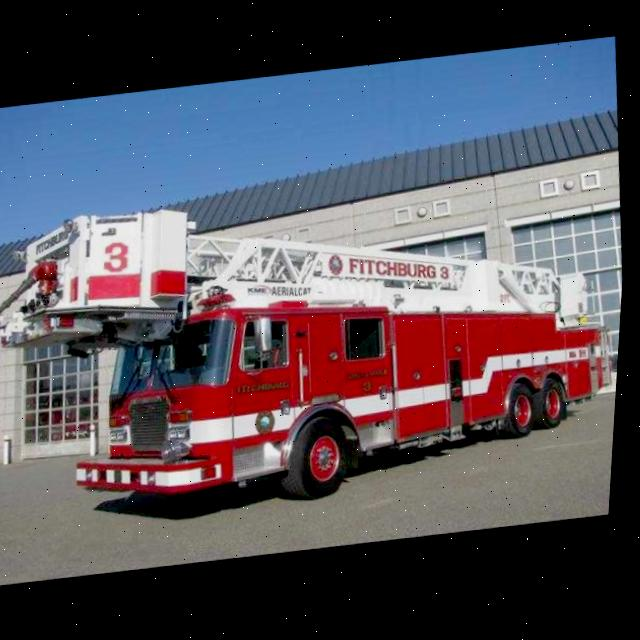emergency: (0, 156, 623, 533)
